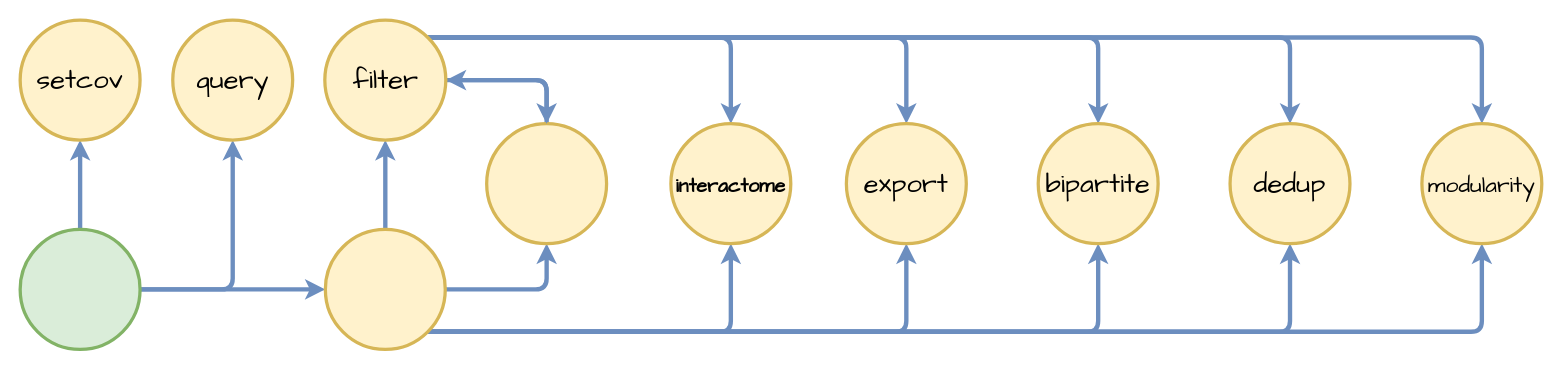
Image size: 1562x370. Some labels were removed from this diagram. Each missing label, with the box of its shape:
cluster: (485, 122, 608, 245)
index: (18, 227, 141, 350)
pairwise: (323, 227, 446, 350)
